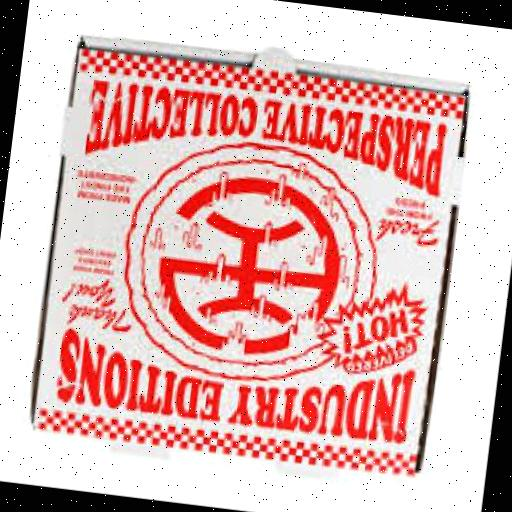cardboard: (26, 33, 483, 490)
